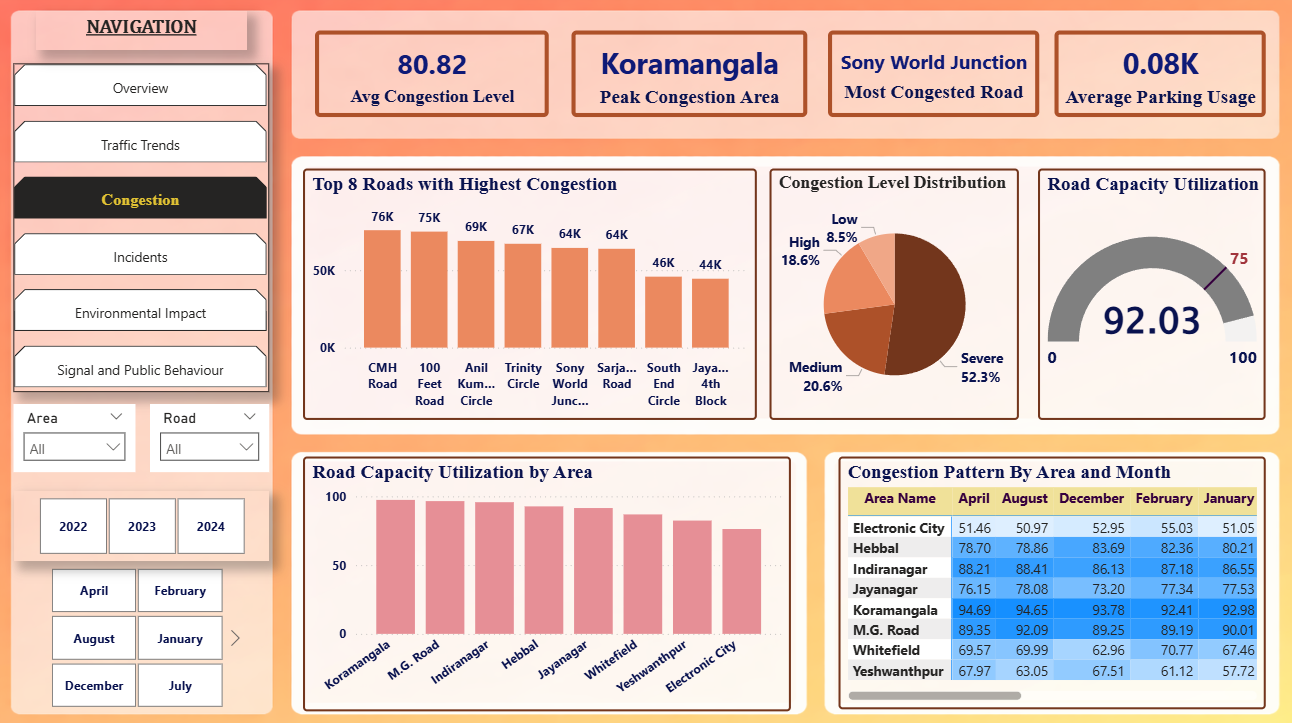

What the dashboard file says about the page in this screenshot:
{"tool":"powerbi","page":{"name":"Congestion","canvas":[1280,720],"ordinal":2},"visuals":[{"type":"group","id":"g1","title":"Group 6","box":[316.9,37.3,930.5,84.7],"z":0},{"type":"card","fields":{"Values":["Measures Table.Avg Congestion Level"]},"box":[316.9,37.3,228.8,84.7],"z":0,"group":"g2"},{"type":"slicer","fields":{"Values":["Banglore_traffic_Dataset.Area Name"]},"box":[22.7,402.8,119.6,66.6],"z":0,"group":"g6"},{"type":"slicer","fields":{"Values":["Banglore_traffic_Dataset.Road/Intersection Name"]},"box":[156,402.8,116.6,66.6],"z":1000,"group":"g6"},{"type":"slicer","fields":{"Values":["Banglore_traffic_Dataset.Month"]},"box":[33.3,556.4,216.5,149.2],"z":1000},{"type":"card","fields":{"Values":["Measures Table.Peak Congestion Area"]},"box":[567.7,37.3,230.5,84.7],"z":2000,"group":"g3"},{"type":"columnChart","title":"Top 8 Roads with Highest Congestion","fields":{"Category":["Banglore_traffic_Dataset.Road/Intersection Name"],"Y":["Sum(Banglore_traffic_Dataset.Congestion Level)"]},"box":[304.9,172.1,444.3,245.9],"z":2000},{"type":"pivotTable","title":"Congestion Pattern By Area and Month ","fields":{"Rows":["Banglore_traffic_Dataset.Area Name"],"Columns":["Banglore_traffic_Dataset.Month"],"Values":["Avg(Banglore_traffic_Dataset.Congestion Level)"]},"box":[829.5,454.1,418,247.5],"z":3000},{"type":"group","id":"g2","title":"Group 1","box":[316.9,37.3,228.8,84.7],"z":4000,"group":"g1"},{"type":"card","fields":{"Values":["Measures Table.Most Congested Road"]},"box":[818.6,37.3,206.8,84.7],"z":4000,"group":"g5"},{"type":"card","fields":{"Values":["Measures Table.Average Parking Usage"]},"box":[1040.6,37.3,206.8,84.7],"z":4000,"group":"g4"},{"type":"pieChart","title":"Congestion Level Distribution","fields":{"Category":["Banglore_traffic_Dataset.Congestion Level Category"],"Y":["Measures Table.Congestion Count"]},"box":[762.3,172.1,244.3,245.9],"z":4000},{"type":"group","id":"g3","title":"Group 3","box":[567.7,37.3,230.5,84.7],"z":5000,"group":"g1"},{"type":"columnChart","title":"Road Capacity Utilization by Area","fields":{"Category":["Banglore_traffic_Dataset.Area Name"],"Y":["Measures Table.Average Road Capacity Utilization"]},"box":[304.9,454.1,477,249.2],"z":5000},{"type":"group","id":"g4","title":"Group 4","box":[1040.6,37.3,206.8,84.7],"z":6000,"group":"g1"},{"type":"gauge","title":"Road Capacity Utilization","fields":{"Y":["Measures Table.Average Road Capacity Utilization"],"TargetValue":["Measures Table.Target Value"],"MinValue":["Measures Table.Minimun Value"],"MaxValue":["Measures Table.Maximum Value"]},"box":[1024.6,172.1,223,245.9],"z":6000},{"type":"group","id":"g5","title":"Group 4","box":[818.6,37.3,206.8,84.7],"z":7000,"group":"g1"},{"type":"pageNavigator","box":[22.7,69.7,249.8,321],"z":7000},{"type":"slicer","fields":{"Values":["Banglore_traffic_Dataset.Year"]},"box":[22.7,487.6,249.8,68.1],"z":8000},{"type":"group","id":"g6","title":"Group 2","box":[22.7,402.8,249.8,66.6],"z":9000},{"type":"textbox","box":[43.9,18.2,205.9,37.9],"z":10000}]}

Visuals, with their boxes in screenshot pixels (x1, y1, x2, y2), scaled from the page's 1280x720 canvas onto the 1292x723 screenshot:
"Group 6" group: (320, 37, 1259, 123)
card - Measures Table.Avg Congestion Level: (320, 37, 551, 123)
slicer - Banglore_traffic_Dataset.Area Name: (23, 404, 144, 471)
slicer - Banglore_traffic_Dataset.Road/Intersection Name: (157, 404, 275, 471)
slicer - Banglore_traffic_Dataset.Month: (34, 559, 252, 709)
card - Measures Table.Peak Congestion Area: (573, 37, 806, 123)
"Top 8 Roads with Highest Congestion" columnChart: (308, 173, 756, 420)
"Congestion Pattern By Area and Month " pivotTable: (837, 456, 1259, 705)
"Group 1" group: (320, 37, 551, 123)
card - Measures Table.Most Congested Road: (826, 37, 1035, 123)
card - Measures Table.Average Parking Usage: (1050, 37, 1259, 123)
"Congestion Level Distribution" pieChart: (769, 173, 1016, 420)
"Group 3" group: (573, 37, 806, 123)
"Road Capacity Utilization by Area" columnChart: (308, 456, 789, 706)
"Group 4" group: (1050, 37, 1259, 123)
"Road Capacity Utilization" gauge: (1034, 173, 1259, 420)
"Group 4" group: (826, 37, 1035, 123)
pageNavigator: (23, 70, 275, 392)
slicer - Banglore_traffic_Dataset.Year: (23, 490, 275, 558)
"Group 2" group: (23, 404, 275, 471)
textbox: (44, 18, 252, 56)
